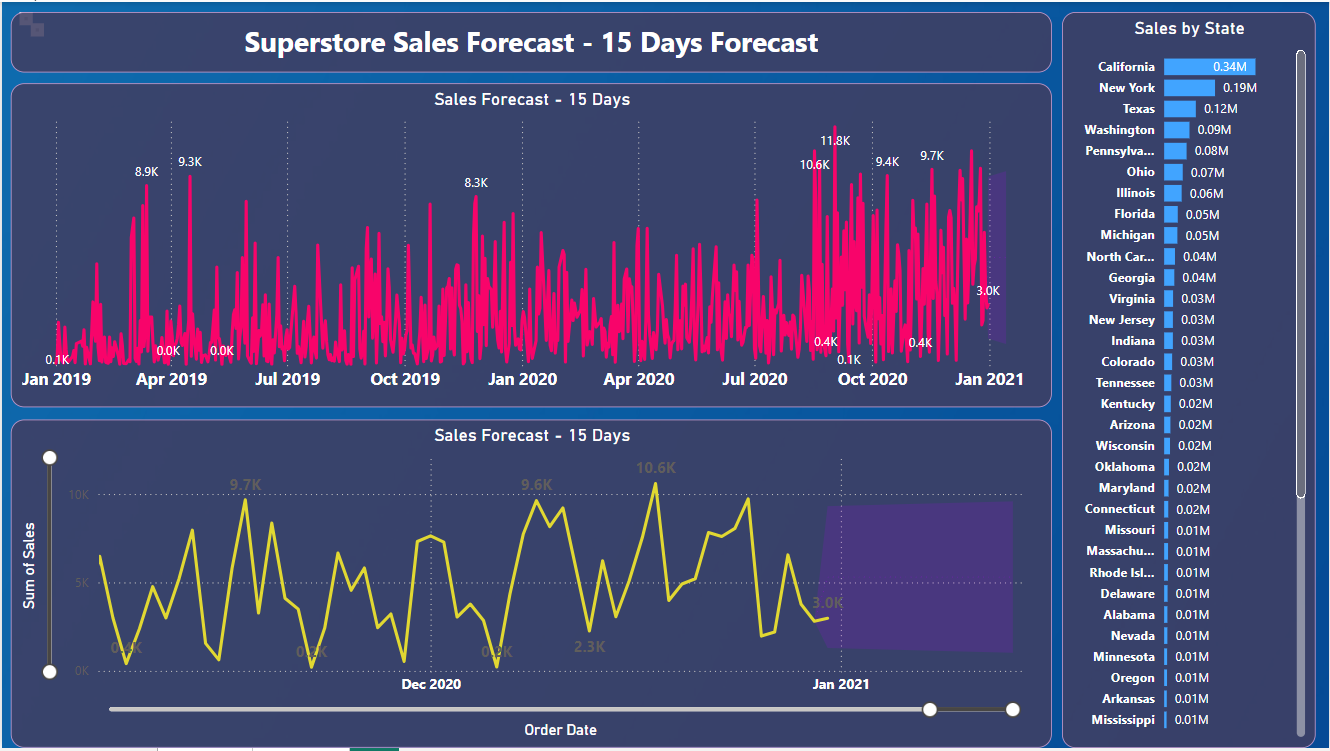

What the dashboard file says about the page in this screenshot:
{"tool":"powerbi","page":{"name":"Page 2","canvas":[1280,720],"ordinal":1},"visuals":[{"type":"lineChart","title":"Sales Forecast - 15 Days","fields":{"Y":["Sum(Sheet1 (2).Sales)"],"Category":["Sheet1 (2).Order Date"]},"box":[8,78,1005,313],"z":0},{"type":"lineChart","title":"Sales Forecast - 15 Days","fields":{"Y":["Sum(Sheet1 (2).Sales)"],"Category":["Sheet1 (2).Order Date"]},"box":[8,403,1005,317],"z":1000},{"type":"clusteredBarChart","title":"Sales by State","fields":{"Y":["Sum(Sheet1.Sales)"],"Category":["Sheet1.State"]},"box":[1023,10,245,710],"z":2000},{"type":"textbox","box":[17.3,10.1,13,13],"z":3000},{"type":"textbox","box":[27.3,20.1,13,13],"z":4000},{"type":"textbox","box":[8,10,1005,58],"z":5000}]}

Visuals, with their boxes in screenshot pixels (x1, y1, x2, y2), scaled from the page's 1280x720 canvas onto the 1330x751 screenshot:
"Sales Forecast - 15 Days" lineChart: select_region(8, 81, 1053, 408)
"Sales Forecast - 15 Days" lineChart: select_region(8, 420, 1053, 750)
"Sales by State" clusteredBarChart: select_region(1063, 10, 1318, 750)
textbox: select_region(18, 11, 31, 24)
textbox: select_region(28, 21, 42, 35)
textbox: select_region(8, 10, 1053, 71)
